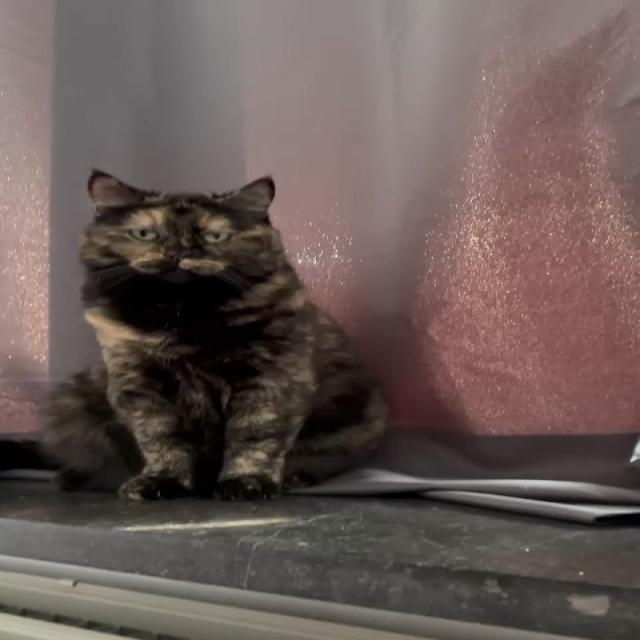authorized: (37, 167, 391, 502)
